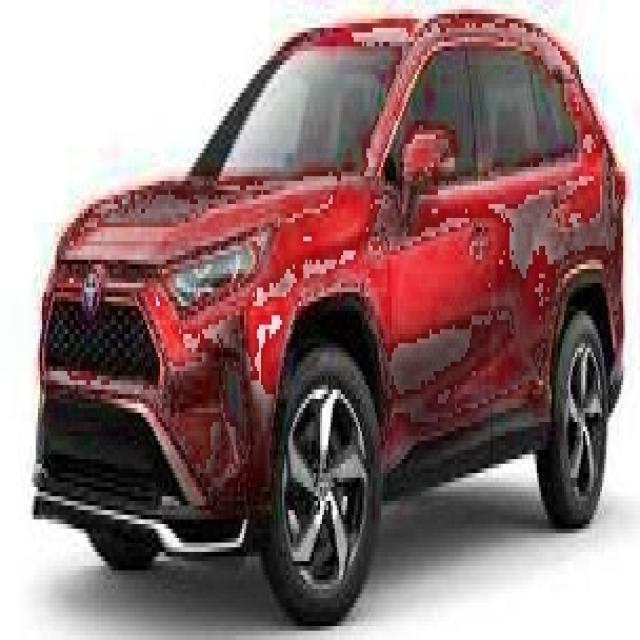maroon: (40, 14, 640, 552)
